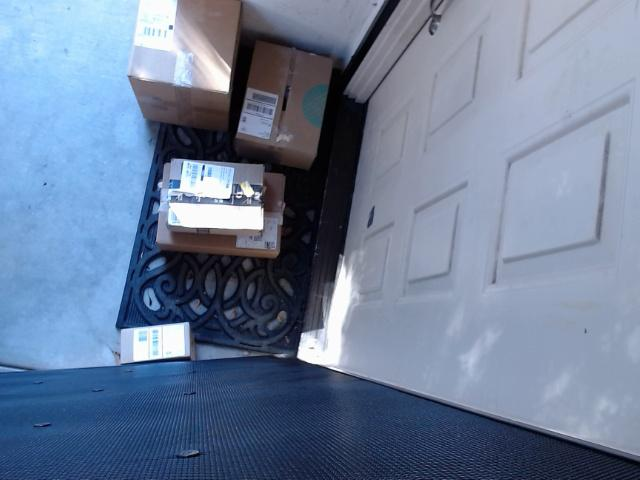box: (106, 3, 255, 130), (130, 152, 296, 256), (238, 32, 341, 162), (151, 157, 271, 237), (86, 299, 216, 372)
